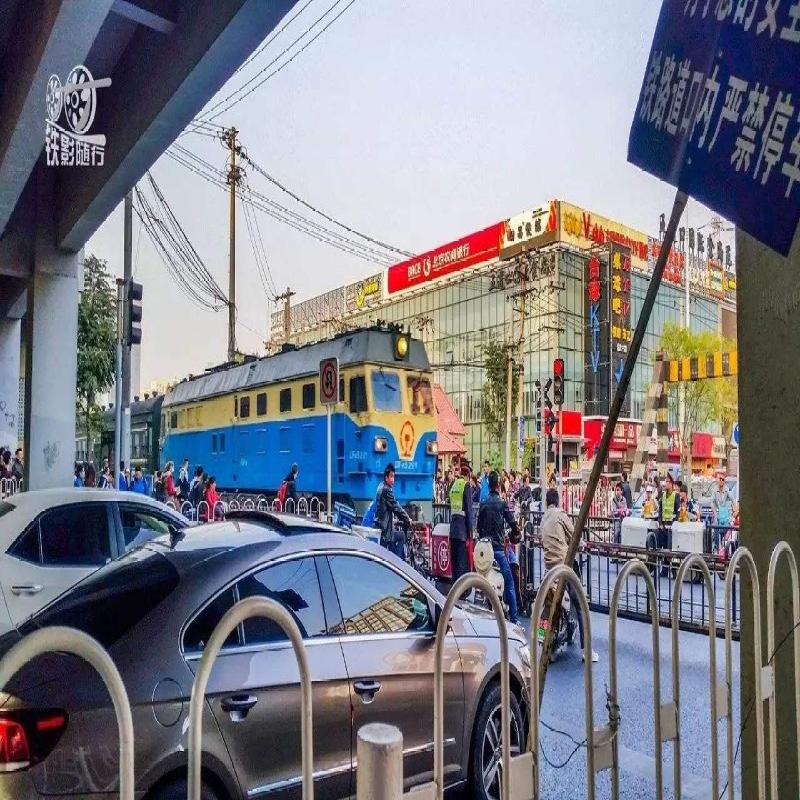train: (155, 290, 449, 479)
